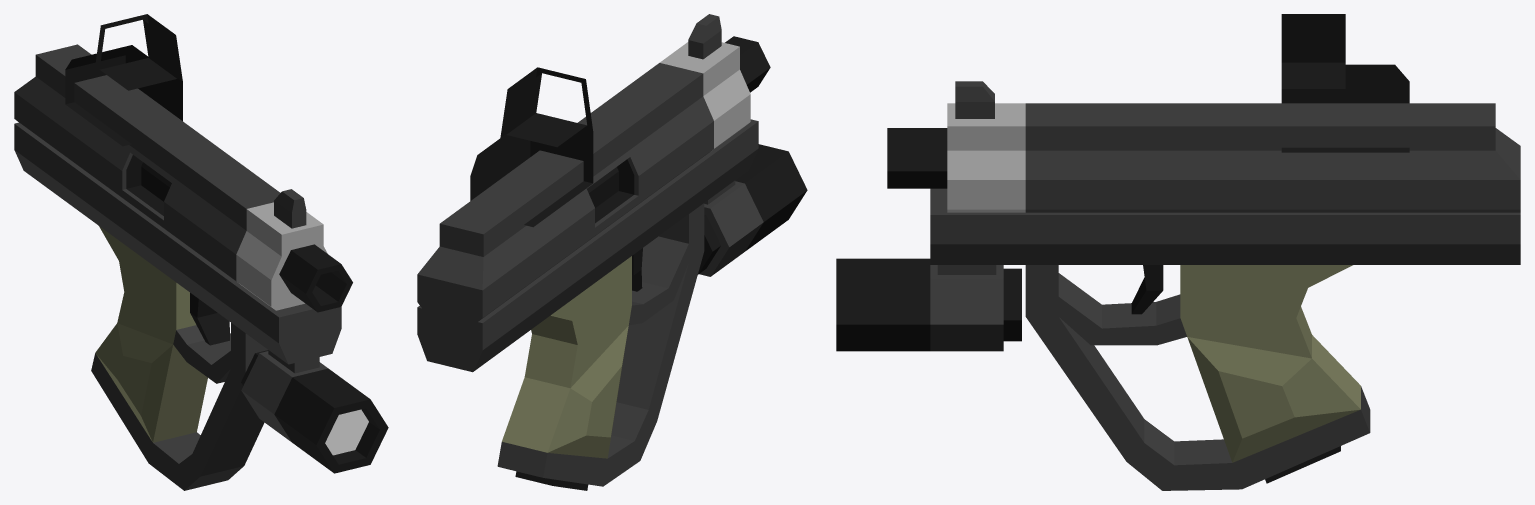
File: Pistol.fbx
3 renders of one model, left to right at view 1: azimuth 30°, elevation 25°; view 2: azimuth 150°, elevation 25°; view 3: azimuth 270°, elevation 25°, orthographic. The views are drawn at different scales.
Visible parts, largest first — view 1: Pistol Body, Pistol Slide, Pistol Trigger; view 2: Pistol Body, Pistol Slide, Pistol Mag; view 3: Pistol Body, Pistol Slide, Pistol Trigger.
Part boxes in pixels (x1,y1,x2,y2): Pistol Body: [14, 122, 388, 490]; Pistol Slide: [14, 14, 327, 310]; Pistol Trigger: [190, 293, 229, 345]; Pistol Body: [417, 36, 807, 486]; Pistol Slide: [417, 14, 750, 321]; Pistol Mag: [515, 471, 588, 490]; Pistol Body: [836, 128, 1520, 490]; Pistol Slide: [947, 14, 1520, 212]; Pistol Trigger: [1131, 265, 1163, 314].
Bounding box in the file's own units: 4.25 × 22.79 × 31.24.
